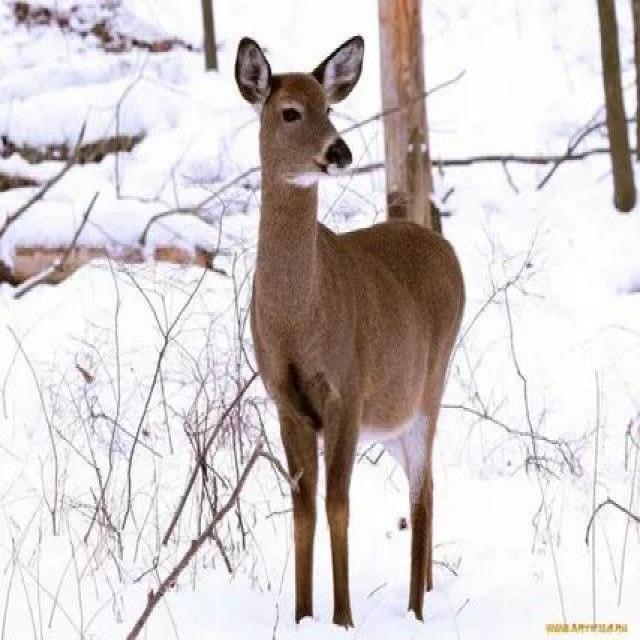deer: (193, 8, 500, 620)
